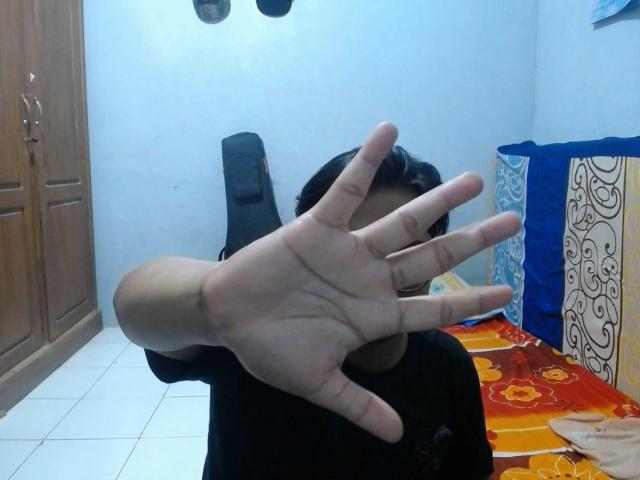Release: (202, 116, 527, 446)
